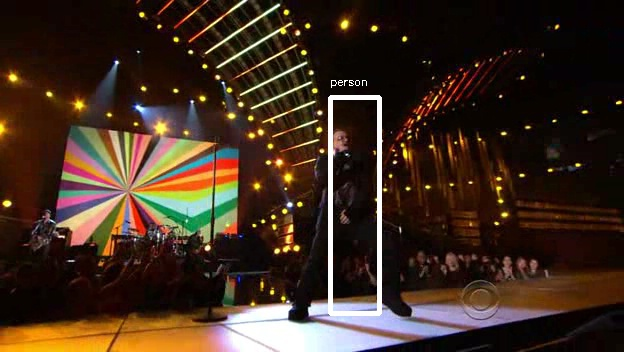person: (314, 127, 380, 246), (311, 127, 377, 246), (317, 127, 383, 246), (314, 124, 380, 243), (314, 130, 380, 249)
target_negative: (76, 94, 484, 309), (98, 118, 390, 203), (266, 270, 417, 350), (211, 300, 582, 325), (457, 81, 504, 265), (119, 321, 343, 334)
